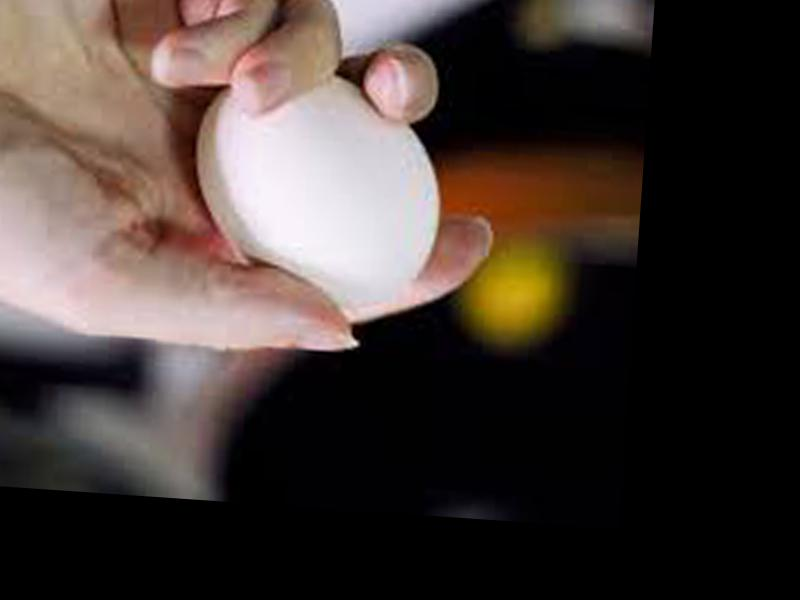Eggs: (188, 69, 451, 311)
